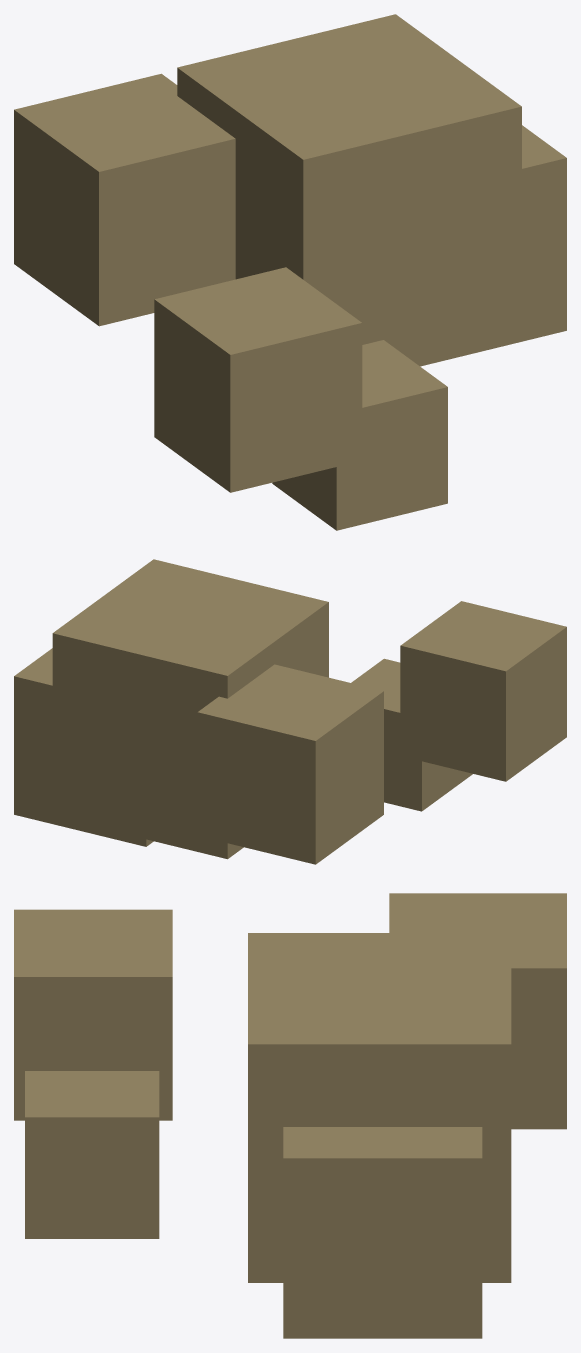
The model's file is RUBBLE_003.glb.
The picture shows the model from 3 angles, top to bottom: view 1: azimuth 30°, elevation 25°; view 2: azimuth 150°, elevation 25°; view 3: azimuth 270°, elevation 25°; orthographic projection. The views are drawn at different scales.
Visible parts, largest first — view 1: Small debris scatter fragment 3, Small debris scatter fragment 5, Small debris scatter fragment 4, Small debris scatter fragment 1, Small debris scatter fragment 2; view 2: Small debris scatter fragment 3, Small debris scatter fragment 5, Small debris scatter fragment 4, Small debris scatter fragment 2, Small debris scatter fragment 1; view 3: Small debris scatter fragment 3, Small debris scatter fragment 2, Small debris scatter fragment 4, Small debris scatter fragment 1, Small debris scatter fragment 5.
Part boxes in pixels (bbox=[...]): Small debris scatter fragment 3: bbox=[177, 14, 521, 361]; Small debris scatter fragment 5: bbox=[14, 73, 235, 326]; Small debris scatter fragment 4: bbox=[154, 267, 362, 492]; Small debris scatter fragment 1: bbox=[272, 340, 447, 530]; Small debris scatter fragment 2: bbox=[414, 125, 566, 366]; Small debris scatter fragment 3: bbox=[52, 559, 328, 859]; Small debris scatter fragment 5: bbox=[197, 664, 383, 864]; Small debris scatter fragment 4: bbox=[400, 601, 566, 781]; Small debris scatter fragment 2: bbox=[14, 648, 153, 846]; Small debris scatter fragment 1: bbox=[351, 658, 472, 811]; Small debris scatter fragment 3: bbox=[248, 933, 511, 1282]; Small debris scatter fragment 2: bbox=[283, 1127, 482, 1338]; Small debris scatter fragment 4: bbox=[14, 909, 172, 1120]; Small debris scatter fragment 1: bbox=[25, 1071, 159, 1238]; Small debris scatter fragment 5: bbox=[389, 893, 566, 1129].
Size of the model in its own units: 1.06 by 0.5971 by 1.04.
